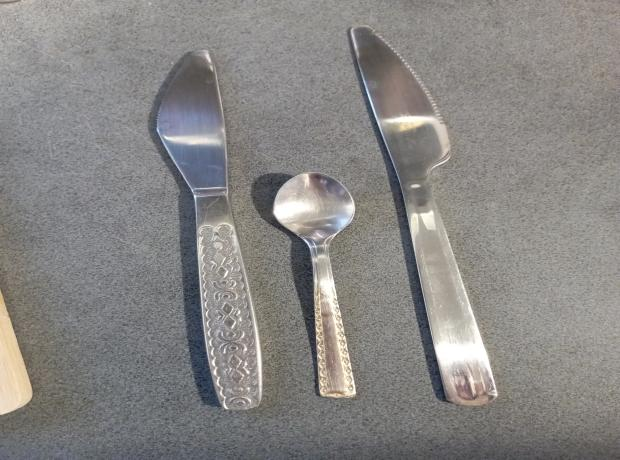metal: (348, 24, 501, 407), (146, 47, 264, 410), (272, 170, 362, 399)
